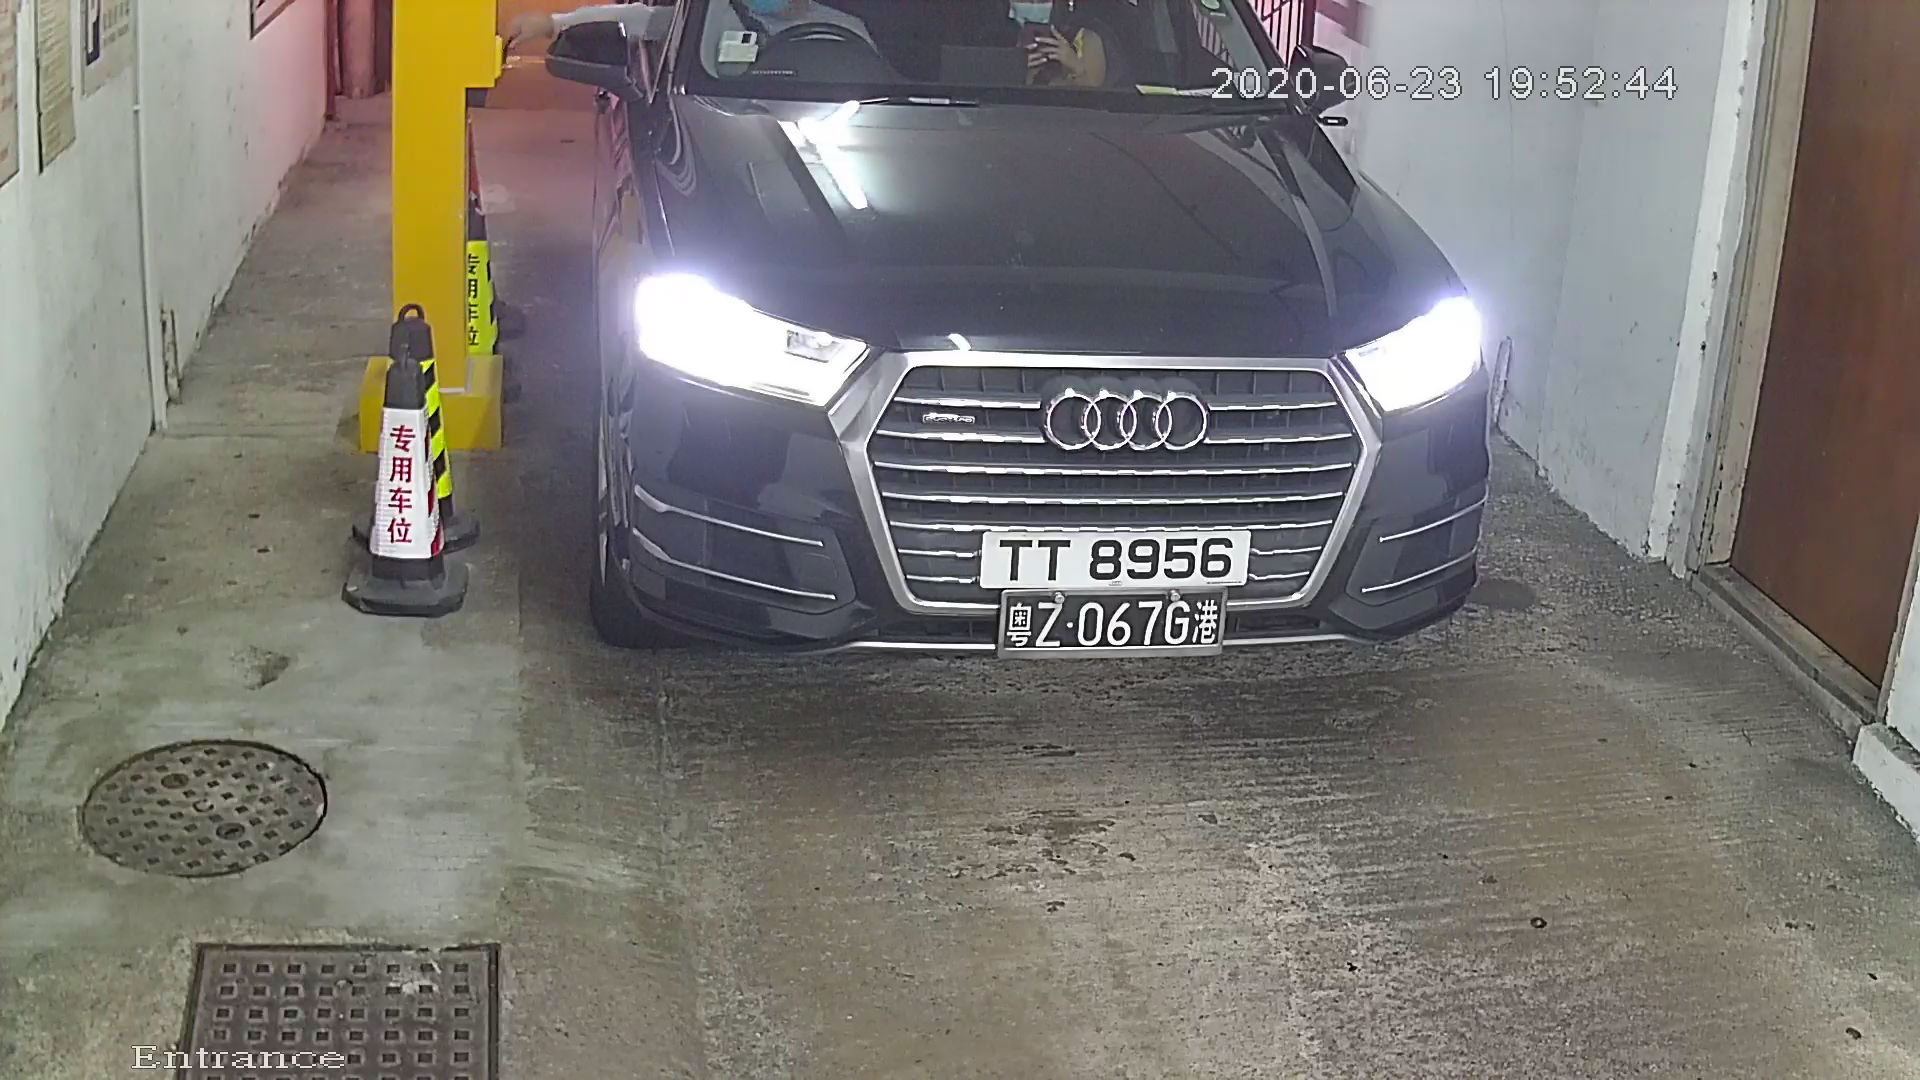privatecar: (530, 3, 1511, 699)
